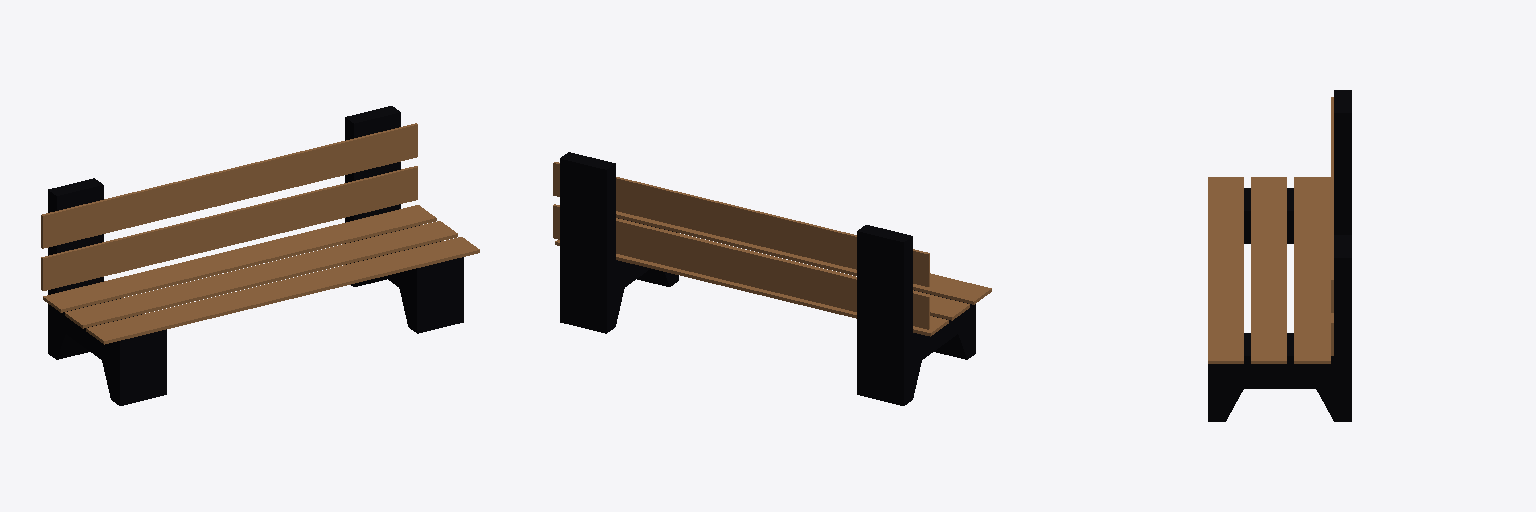
The model's file is bench.obj.
The picture shows the model from 3 angles: view 1: azimuth 30°, elevation 25°; view 2: azimuth 150°, elevation 25°; view 3: azimuth 270°, elevation 25°; orthographic projection.
Parts seen in each view (by area): view 1: bench_mesh_Cube; view 2: bench_mesh_Cube; view 3: bench_mesh_Cube.
Part boxes in pixels (bbox=[...]): bench_mesh_Cube: bbox=[41, 106, 479, 405]; bench_mesh_Cube: bbox=[553, 152, 991, 405]; bench_mesh_Cube: bbox=[1208, 90, 1351, 421].
Size of the model in its own units: 1.2 by 0.5 by 0.4.